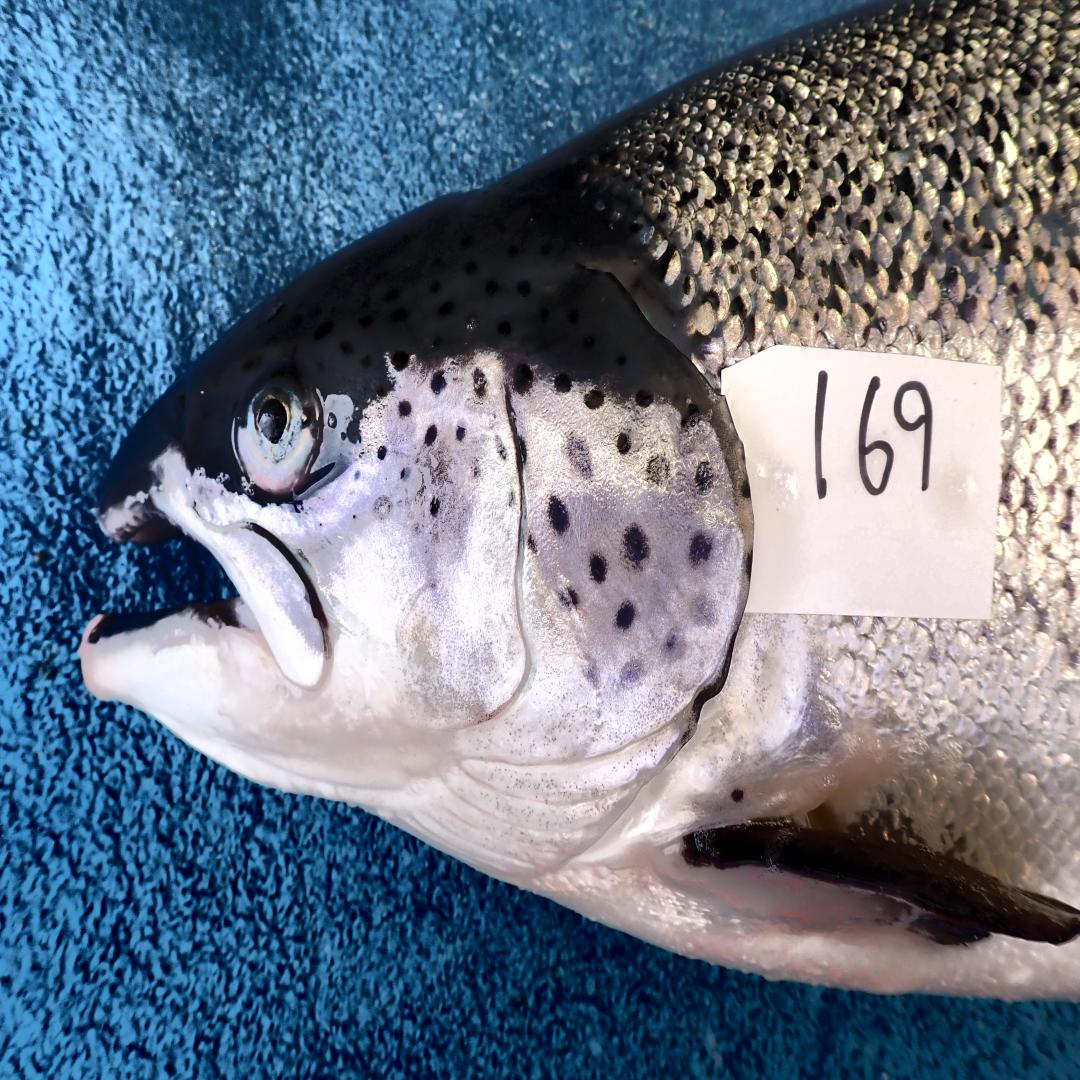spot: (565, 433, 593, 478), (692, 591, 721, 633), (624, 526, 650, 565), (664, 627, 688, 664), (548, 495, 570, 534), (688, 532, 713, 565), (620, 658, 645, 689), (645, 456, 669, 487), (513, 363, 534, 394), (694, 461, 715, 492), (616, 602, 635, 630), (559, 585, 580, 610), (515, 430, 527, 470), (591, 554, 608, 582), (582, 664, 601, 689), (472, 368, 487, 397), (681, 404, 700, 426), (494, 433, 508, 461), (584, 391, 603, 411), (635, 389, 654, 408), (616, 433, 631, 456), (430, 371, 445, 394), (555, 374, 572, 394), (741, 472, 751, 501), (424, 425, 437, 444), (527, 532, 538, 554), (430, 498, 441, 518), (399, 399, 411, 416), (746, 551, 753, 579), (456, 425, 466, 442), (377, 445, 387, 460), (401, 467, 411, 481), (507, 491, 515, 507), (352, 470, 361, 481), (472, 467, 479, 480), (352, 515, 356, 520)
